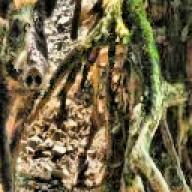boar: (0, 0, 58, 192)
